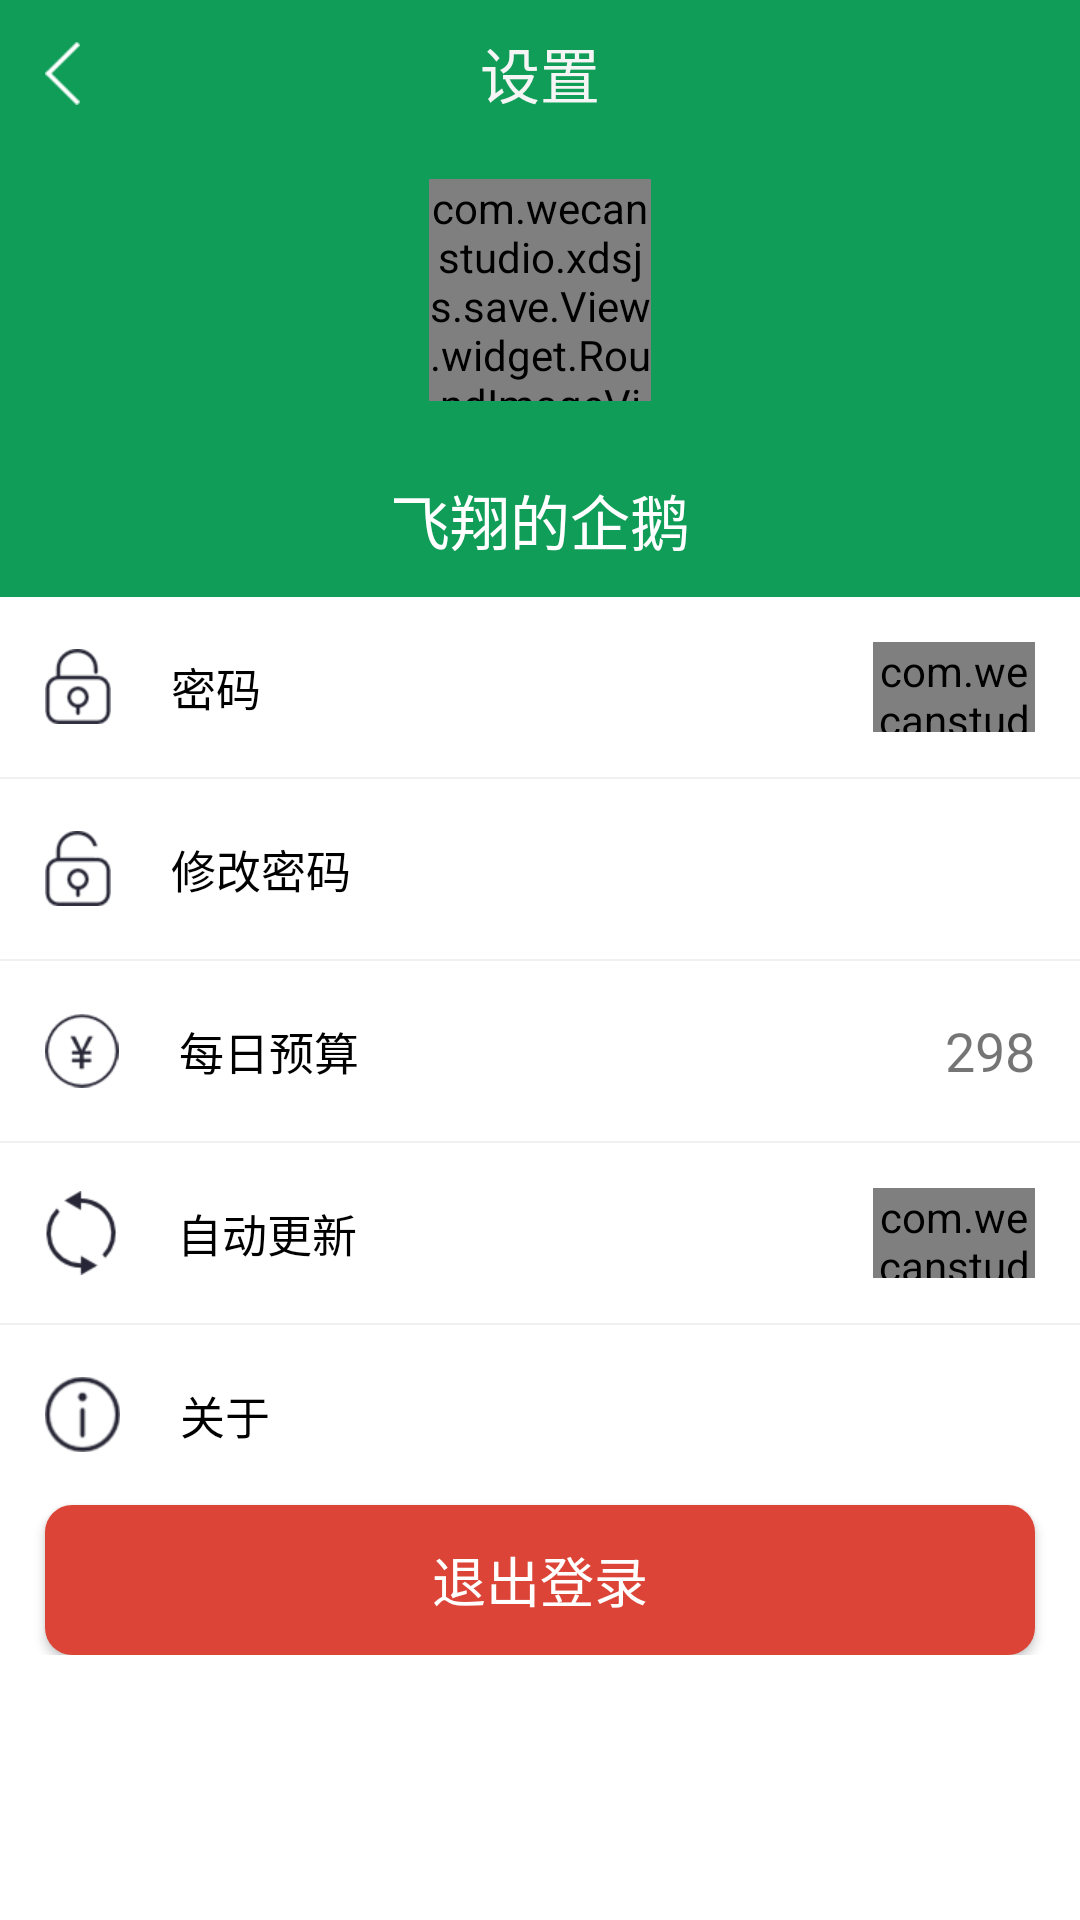

Point at icon controls on the screen. Image size 1080 x 1920, points as (x,y).
about: (82,1414)
back: (62,73)
budget: (82,1051)
pwd change: (78,868)
update: (81,1233)
